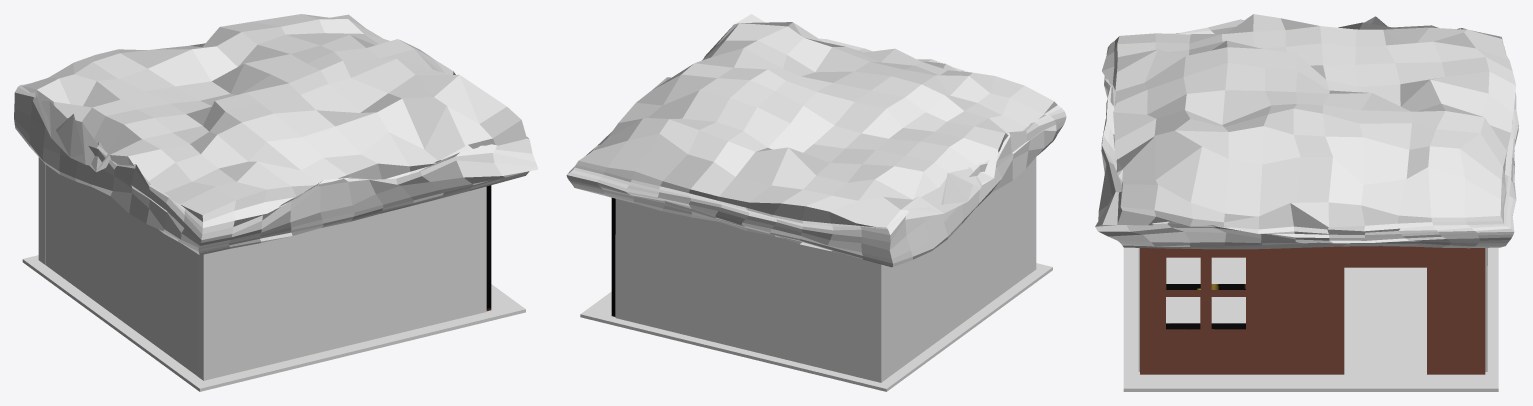
The model's file is house.fbx.
3 views of the same model, side by side, from view 1: azimuth 30°, elevation 25°; view 2: azimuth 150°, elevation 25°; view 3: azimuth 270°, elevation 25° (orthographic). The views are drawn at different scales.
Parts seen in each view (by area): view 1: Cube.005, Cube.003, Cube.001, Cube.006, Cube.002, Cube; view 2: Cube.005, Cube.002, Cube.001, Cube.006, Cube.003, Cube; view 3: Cube.005, Cube, Cube.006, Cube.002.
Part boxes in pixels (x1,y1,x2,y2): Cube.005: (14,14,537,255); Cube.003: (197,186,486,380); Cube.001: (45,164,196,375); Cube.006: (22,255,525,391); Cube.002: (38,157,45,264); Cube: (486,185,491,311); Cube.005: (566,14,1066,267); Cube.002: (615,199,887,382); Cube.001: (887,164,1029,377); Cube.006: (580,263,1052,391); Cube.003: (1030,157,1036,273); Cube: (611,198,615,316); Cube.005: (1095,14,1518,249); Cube: (1140,246,1485,374); Cube.006: (1123,247,1498,391); Cube.002: (1485,248,1487,371).
Size of the model in its own units: 1293 by 745 by 1227.
